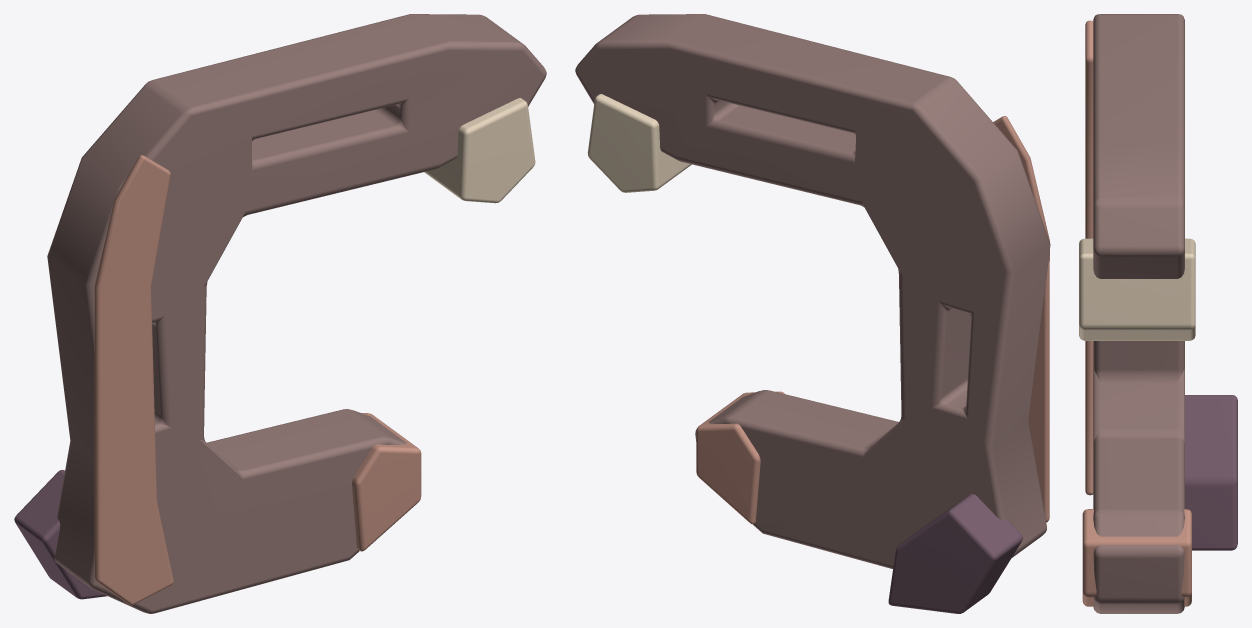
File: cantilever-aperture-gauge.glb
The picture shows the model from 3 angles, left to right: view 1: azimuth 30°, elevation 25°; view 2: azimuth 150°, elevation 25°; view 3: azimuth 270°, elevation 25°; orthographic projection. The views are drawn at different scales.
Visible parts, largest first — view 1: one_piece_open_C_chassis, inset_load_strap, upper_angled_contact, lower_rising_contact, rear_counterweight; view 2: one_piece_open_C_chassis, rear_counterweight, upper_angled_contact, lower_rising_contact, inset_load_strap; view 3: one_piece_open_C_chassis, upper_angled_contact, rear_counterweight, inset_load_strap, lower_rising_contact.
Boxes of the visible parts, x1,y1,x2,y2 form: one_piece_open_C_chassis: (47,14,546,613); inset_load_strap: (94,155,173,605); upper_angled_contact: (424,98,535,203); lower_rising_contact: (352,413,421,551); rear_counterweight: (14,470,107,599); one_piece_open_C_chassis: (575,14,1050,568); rear_counterweight: (888,494,1022,613); upper_angled_contact: (587,94,691,192); lower_rising_contact: (696,391,784,524); inset_load_strap: (993,116,1049,522); one_piece_open_C_chassis: (1093,14,1184,613); upper_angled_contact: (1079,238,1195,340); rear_counterweight: (1185,395,1237,550); inset_load_strap: (1085,20,1093,495); lower_rising_contact: (1082,509,1191,606).
Size of the model in its own units: 162 by 169 by 45.
